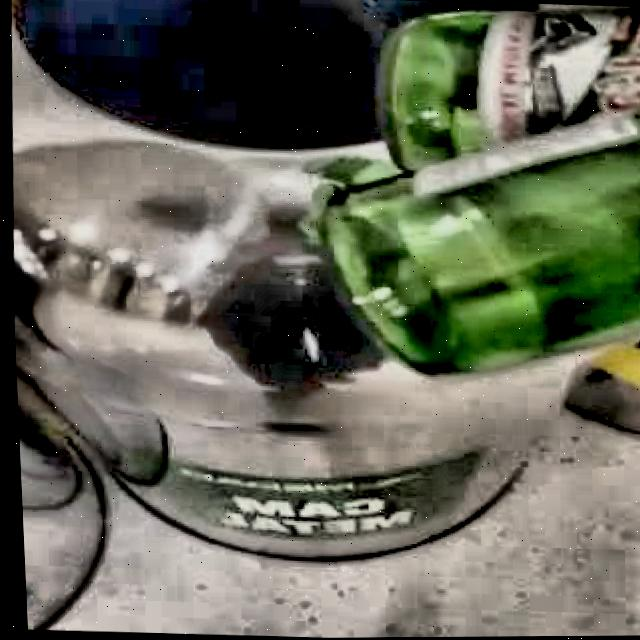glass: (304, 4, 640, 373)
